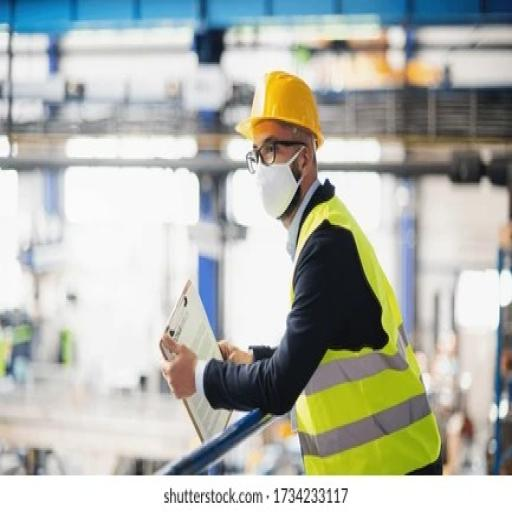mask: (248, 160, 303, 220)
